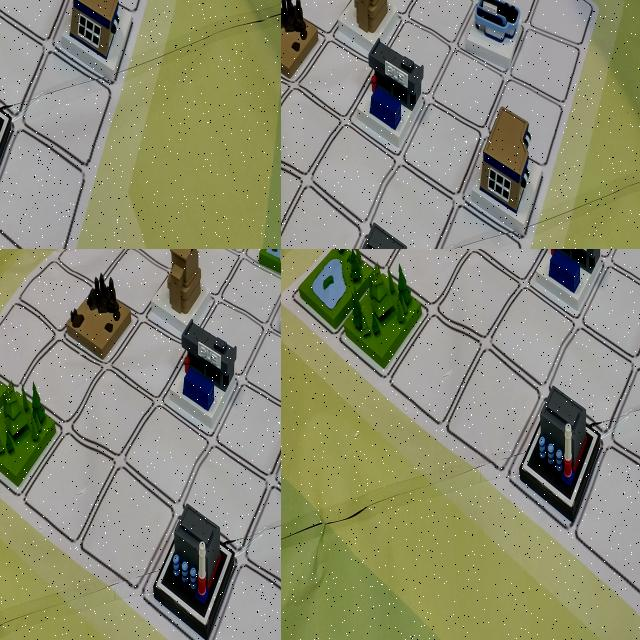bus_stop: (166, 318, 218, 424), (537, 249, 609, 308), (403, 14, 452, 96), (0, 0, 28, 46)
factory: (516, 381, 603, 528), (20, 70, 74, 170), (220, 249, 281, 296), (410, 0, 454, 41)
fish_pool: (47, 427, 98, 510), (74, 0, 128, 43), (458, 0, 502, 39)
forest: (340, 249, 426, 377), (0, 66, 29, 170), (281, 139, 307, 226)
gogo_shop: (73, 337, 128, 423), (362, 16, 406, 97), (0, 0, 28, 61)
research_build: (56, 506, 121, 613), (562, 249, 625, 298), (281, 55, 314, 142), (14, 0, 65, 44)
restaurant: (397, 81, 447, 169), (129, 249, 191, 309), (10, 0, 71, 60)
silicate_rock: (202, 448, 266, 561), (0, 124, 41, 234), (352, 147, 402, 236), (429, 249, 501, 302)
volunteer_center: (146, 425, 197, 528), (514, 249, 580, 304), (316, 11, 360, 86), (0, 65, 29, 160)
wet_land: (294, 249, 379, 330), (0, 0, 32, 71), (323, 0, 374, 38)
